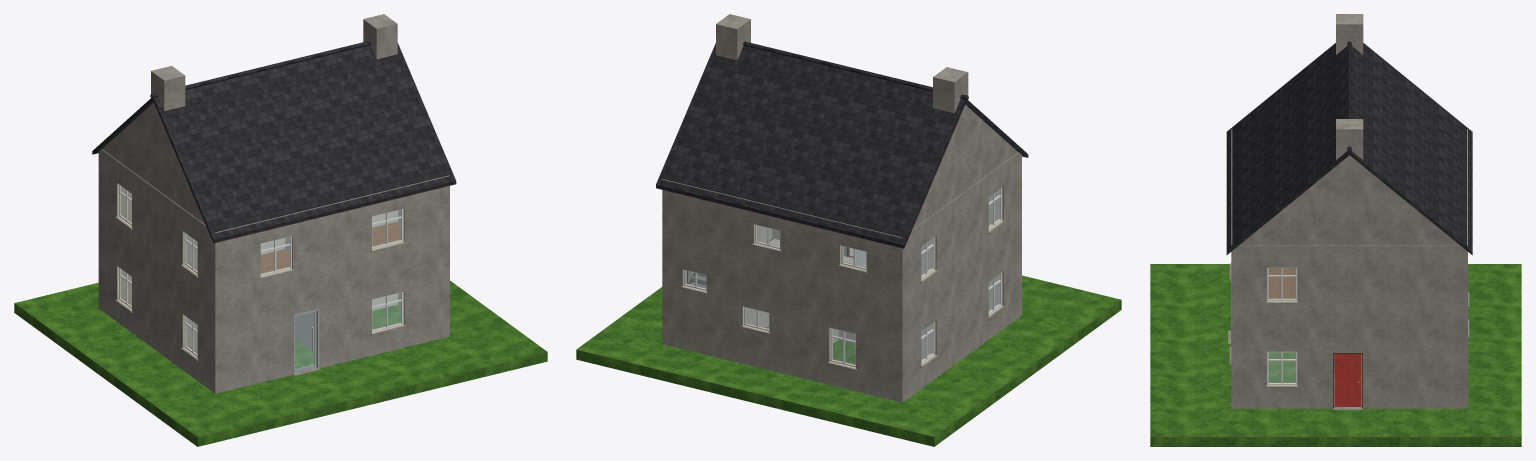
Rendered from b_scottish_stone_house.gltf.
3 views of the same model, side by side, from view 1: azimuth 30°, elevation 25°; view 2: azimuth 150°, elevation 25°; view 3: azimuth 270°, elevation 25° (orthographic). The views are drawn at different scales.
Parts seen in each view (by area): view 1: S_scottish_stone_house, D_scottish_stone_house_F1_S1_Door0; view 2: S_scottish_stone_house; view 3: S_scottish_stone_house, D_scottish_stone_house_F1_E1_Door0.
Part boxes in pixels (x1,y1,x2,y2): S_scottish_stone_house: (14,14,547,446); D_scottish_stone_house_F1_S1_Door0: (294,311,316,372); S_scottish_stone_house: (576,14,1121,446); S_scottish_stone_house: (1150,14,1521,446); D_scottish_stone_house_F1_E1_Door0: (1334,354,1361,406).
Size of the model in its own units: 15 by 11.67 by 13.6.
Materials: 21 (13 with a texture image).
